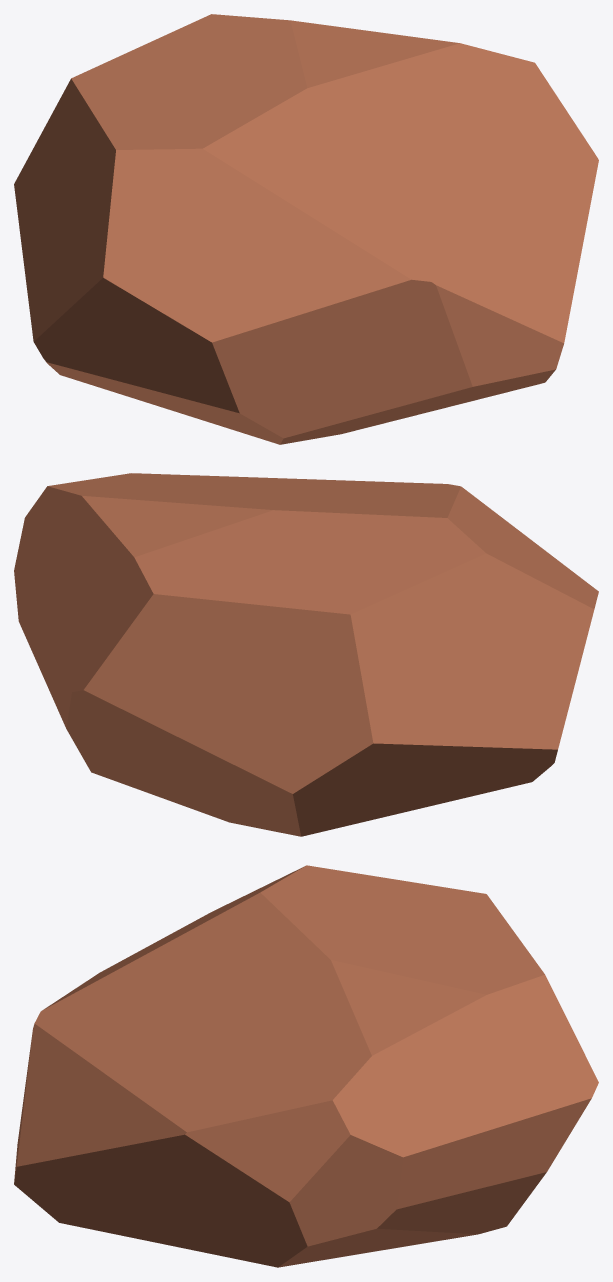
File: rock05.fbx
3 views of the same model, one above another, from view 1: azimuth 30°, elevation 25°; view 2: azimuth 150°, elevation 25°; view 3: azimuth 270°, elevation 25° (orthographic).
Parts seen in each view (by area): view 1: rock.005; view 2: rock.005; view 3: rock.005.
Part boxes in pixels (left/top/right/bottom): rock.005: left=14, top=14, right=598, bottom=444; rock.005: left=14, top=473, right=598, bottom=836; rock.005: left=14, top=865, right=598, bottom=1267.
Bounding box in the file's own units: 136 × 58.7 × 131.
